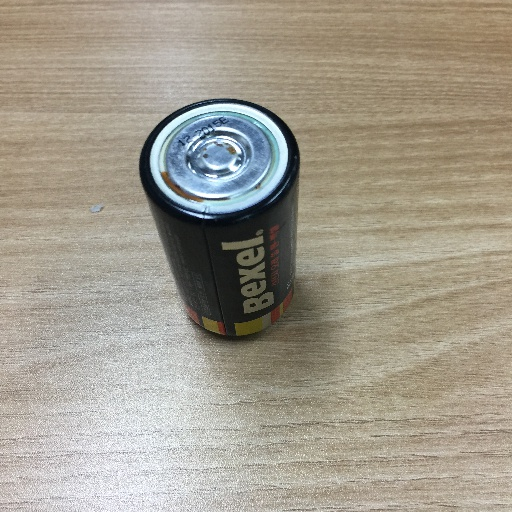Battery_0: (129, 92, 313, 353)
